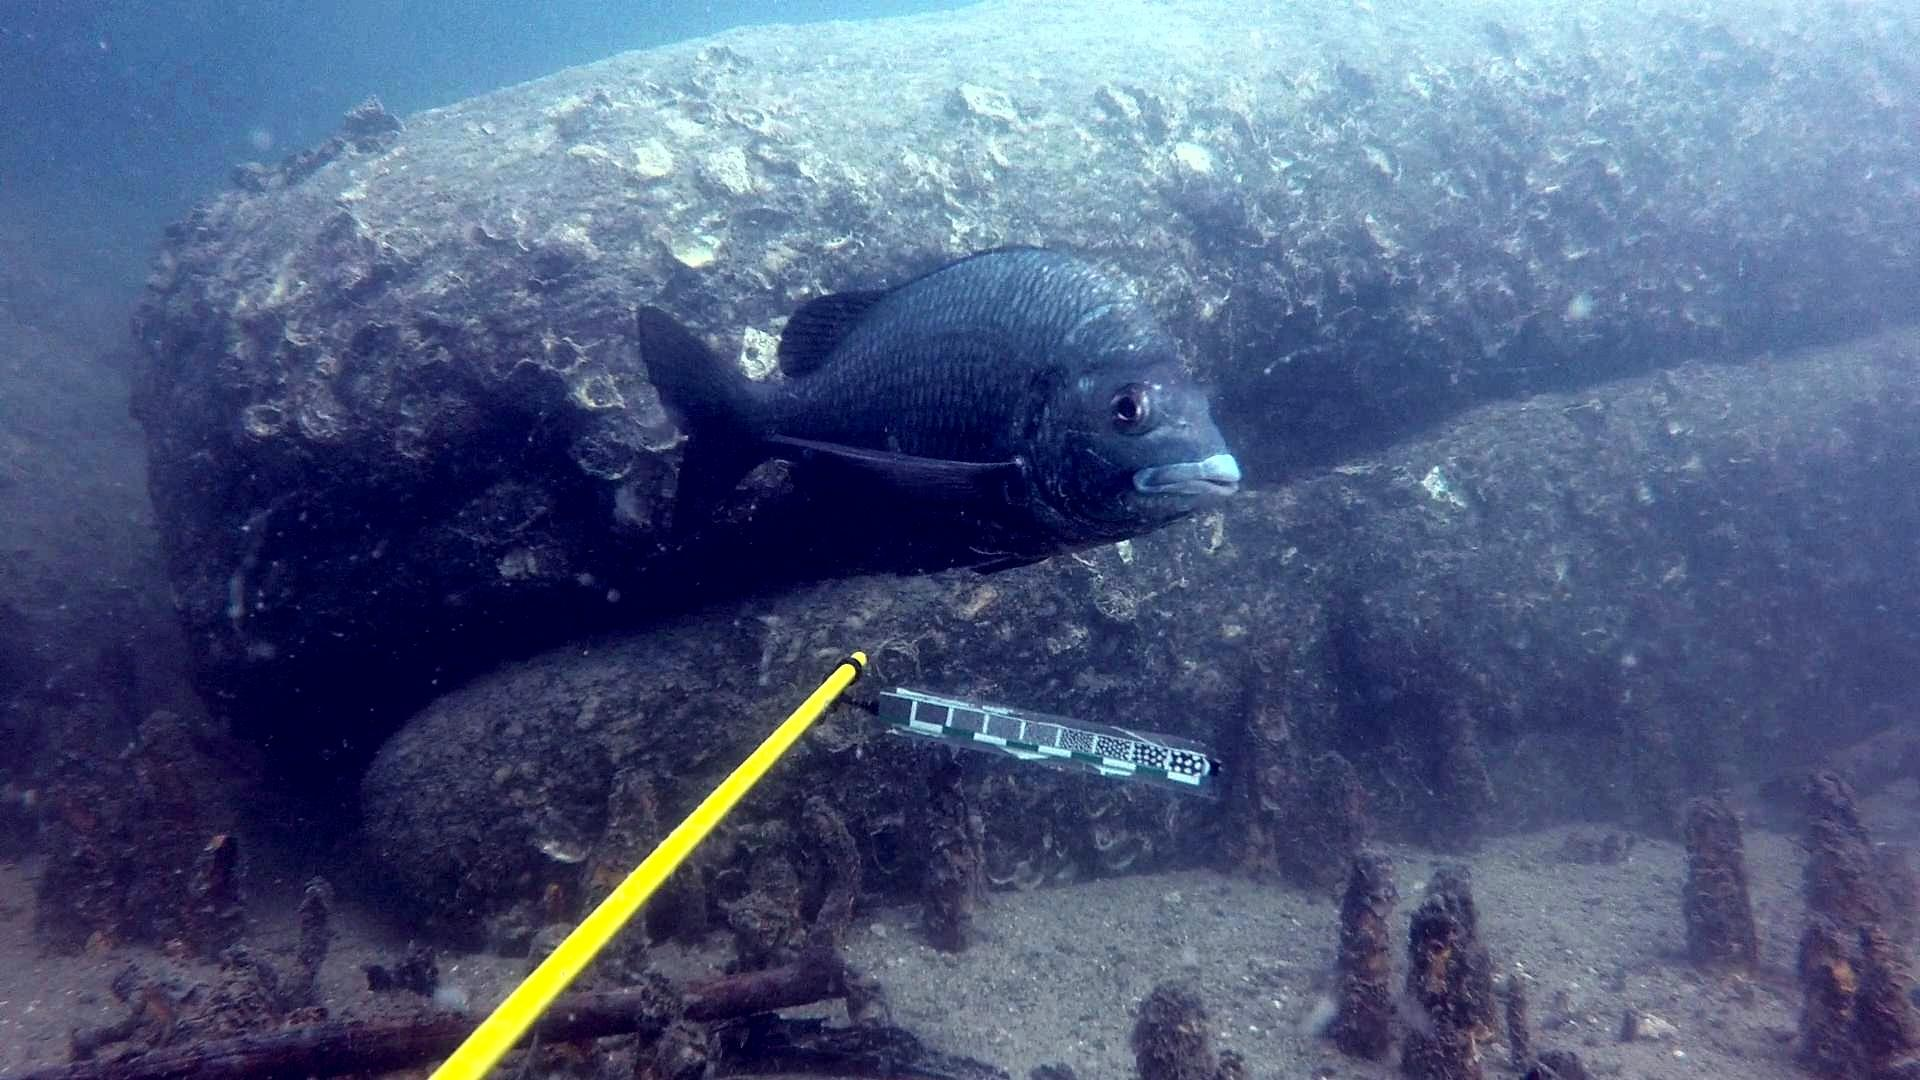acanthopagrus palmaris: (617, 236, 1267, 596)
